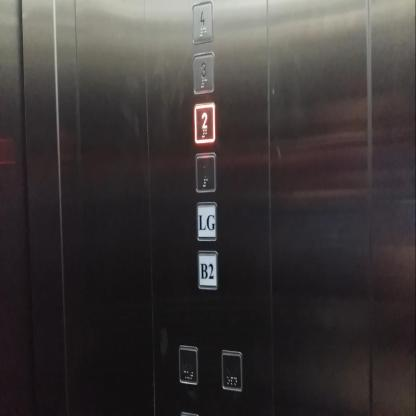1: (195, 152, 216, 192)
2: (193, 101, 216, 144)
3: (192, 49, 214, 95)
4: (191, 1, 215, 45)
B2: (196, 250, 218, 291)
LG: (197, 199, 217, 241)
blur: (220, 348, 243, 391)
close: (178, 344, 198, 386)
